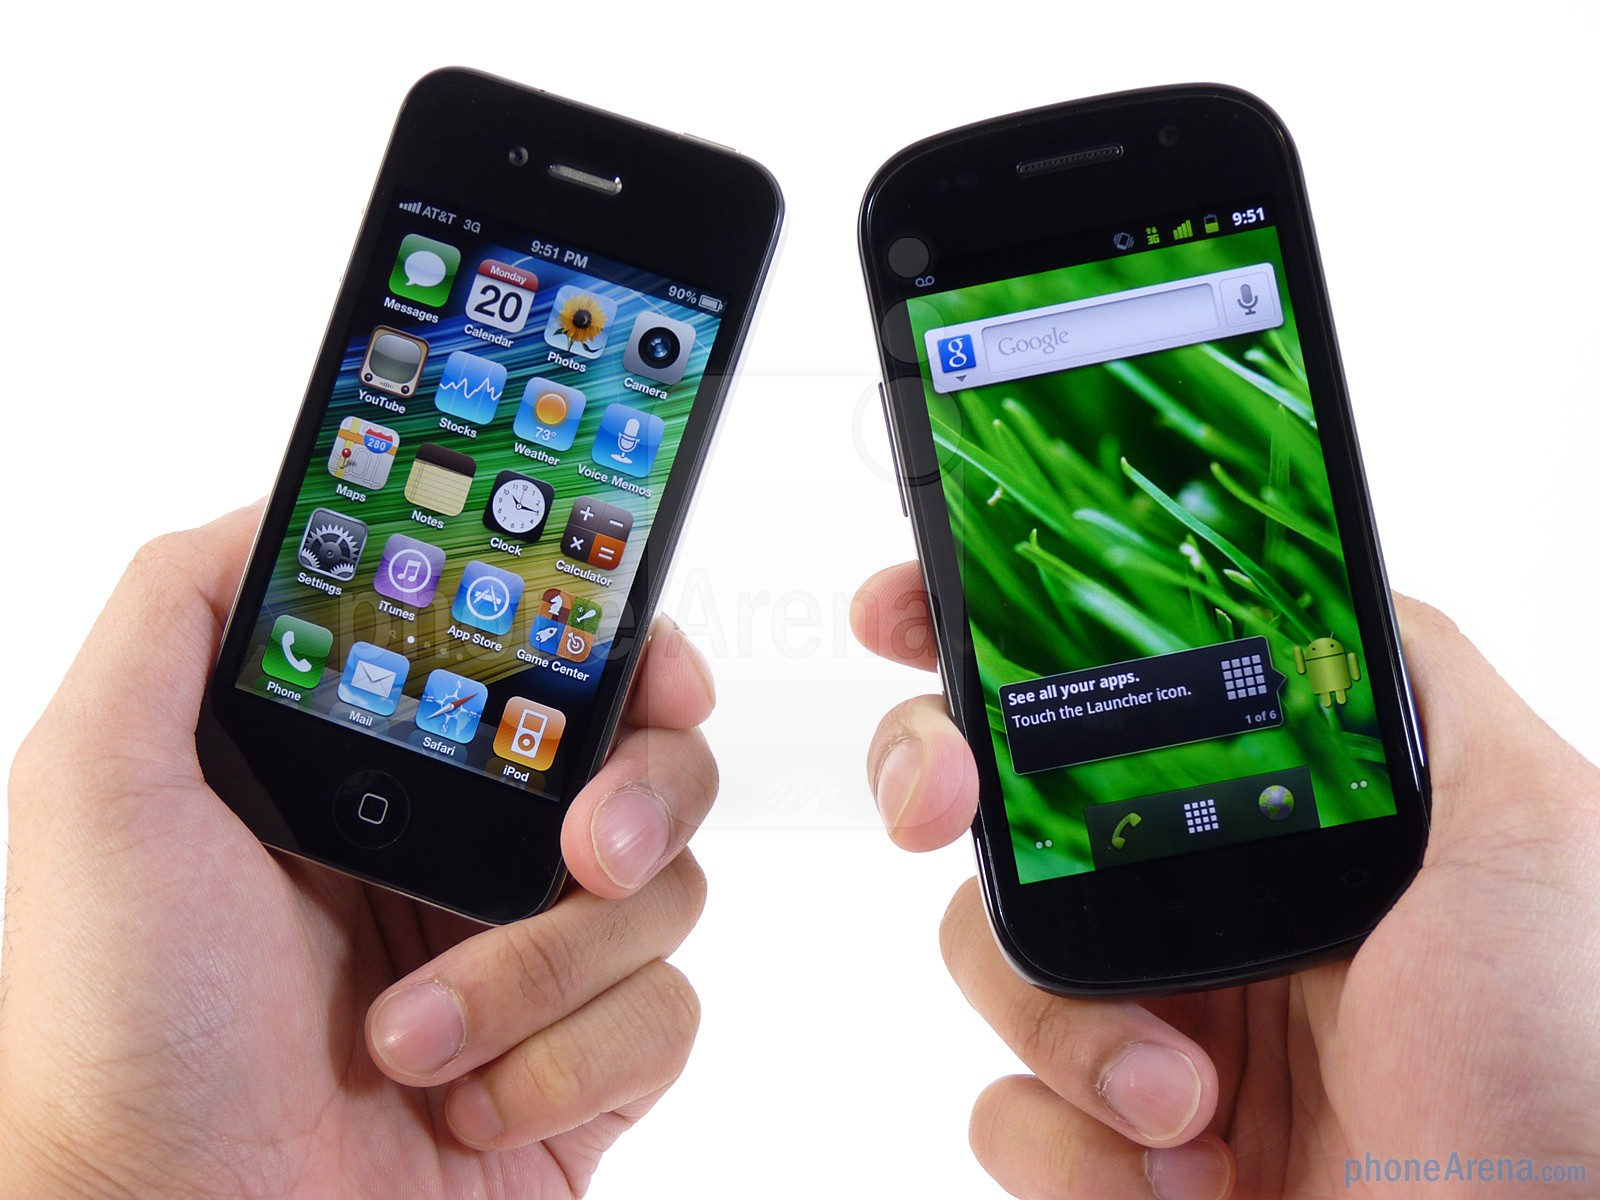smartphone: (855, 81, 1432, 1005), (194, 63, 786, 926)
